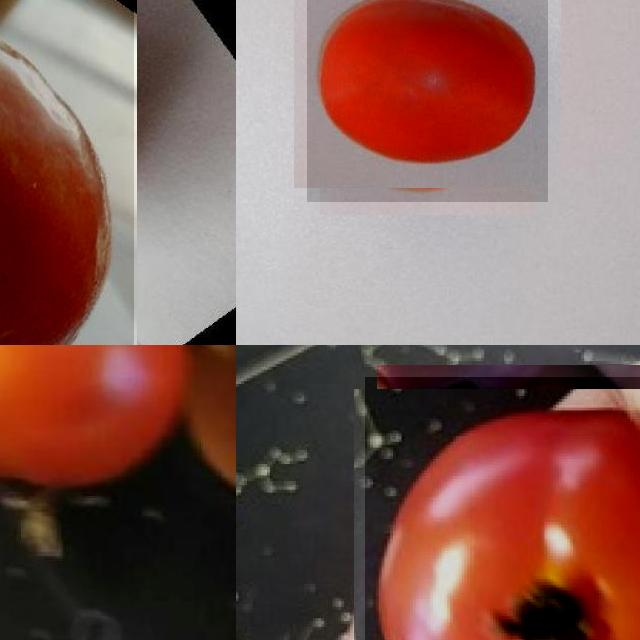0: (365, 377, 640, 640)
Fresh Tomato: (307, 0, 548, 201), (0, 345, 191, 503)
Rotten Tomato: (0, 0, 134, 345)
